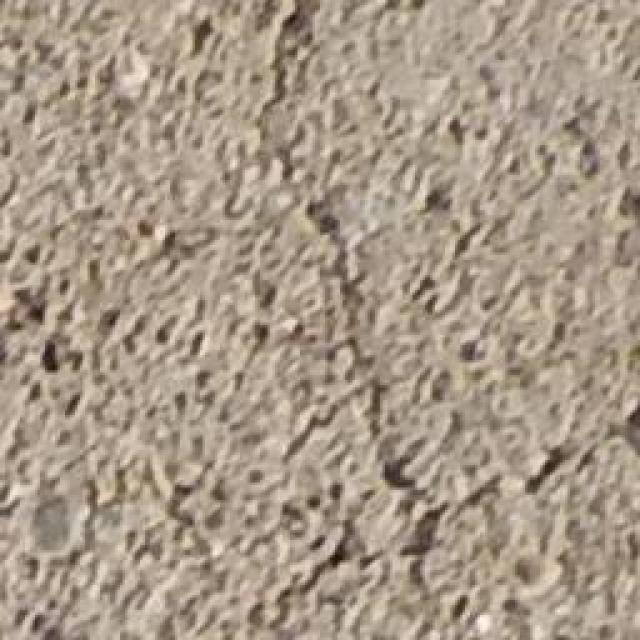concrete-crack: (243, 0, 638, 640)
